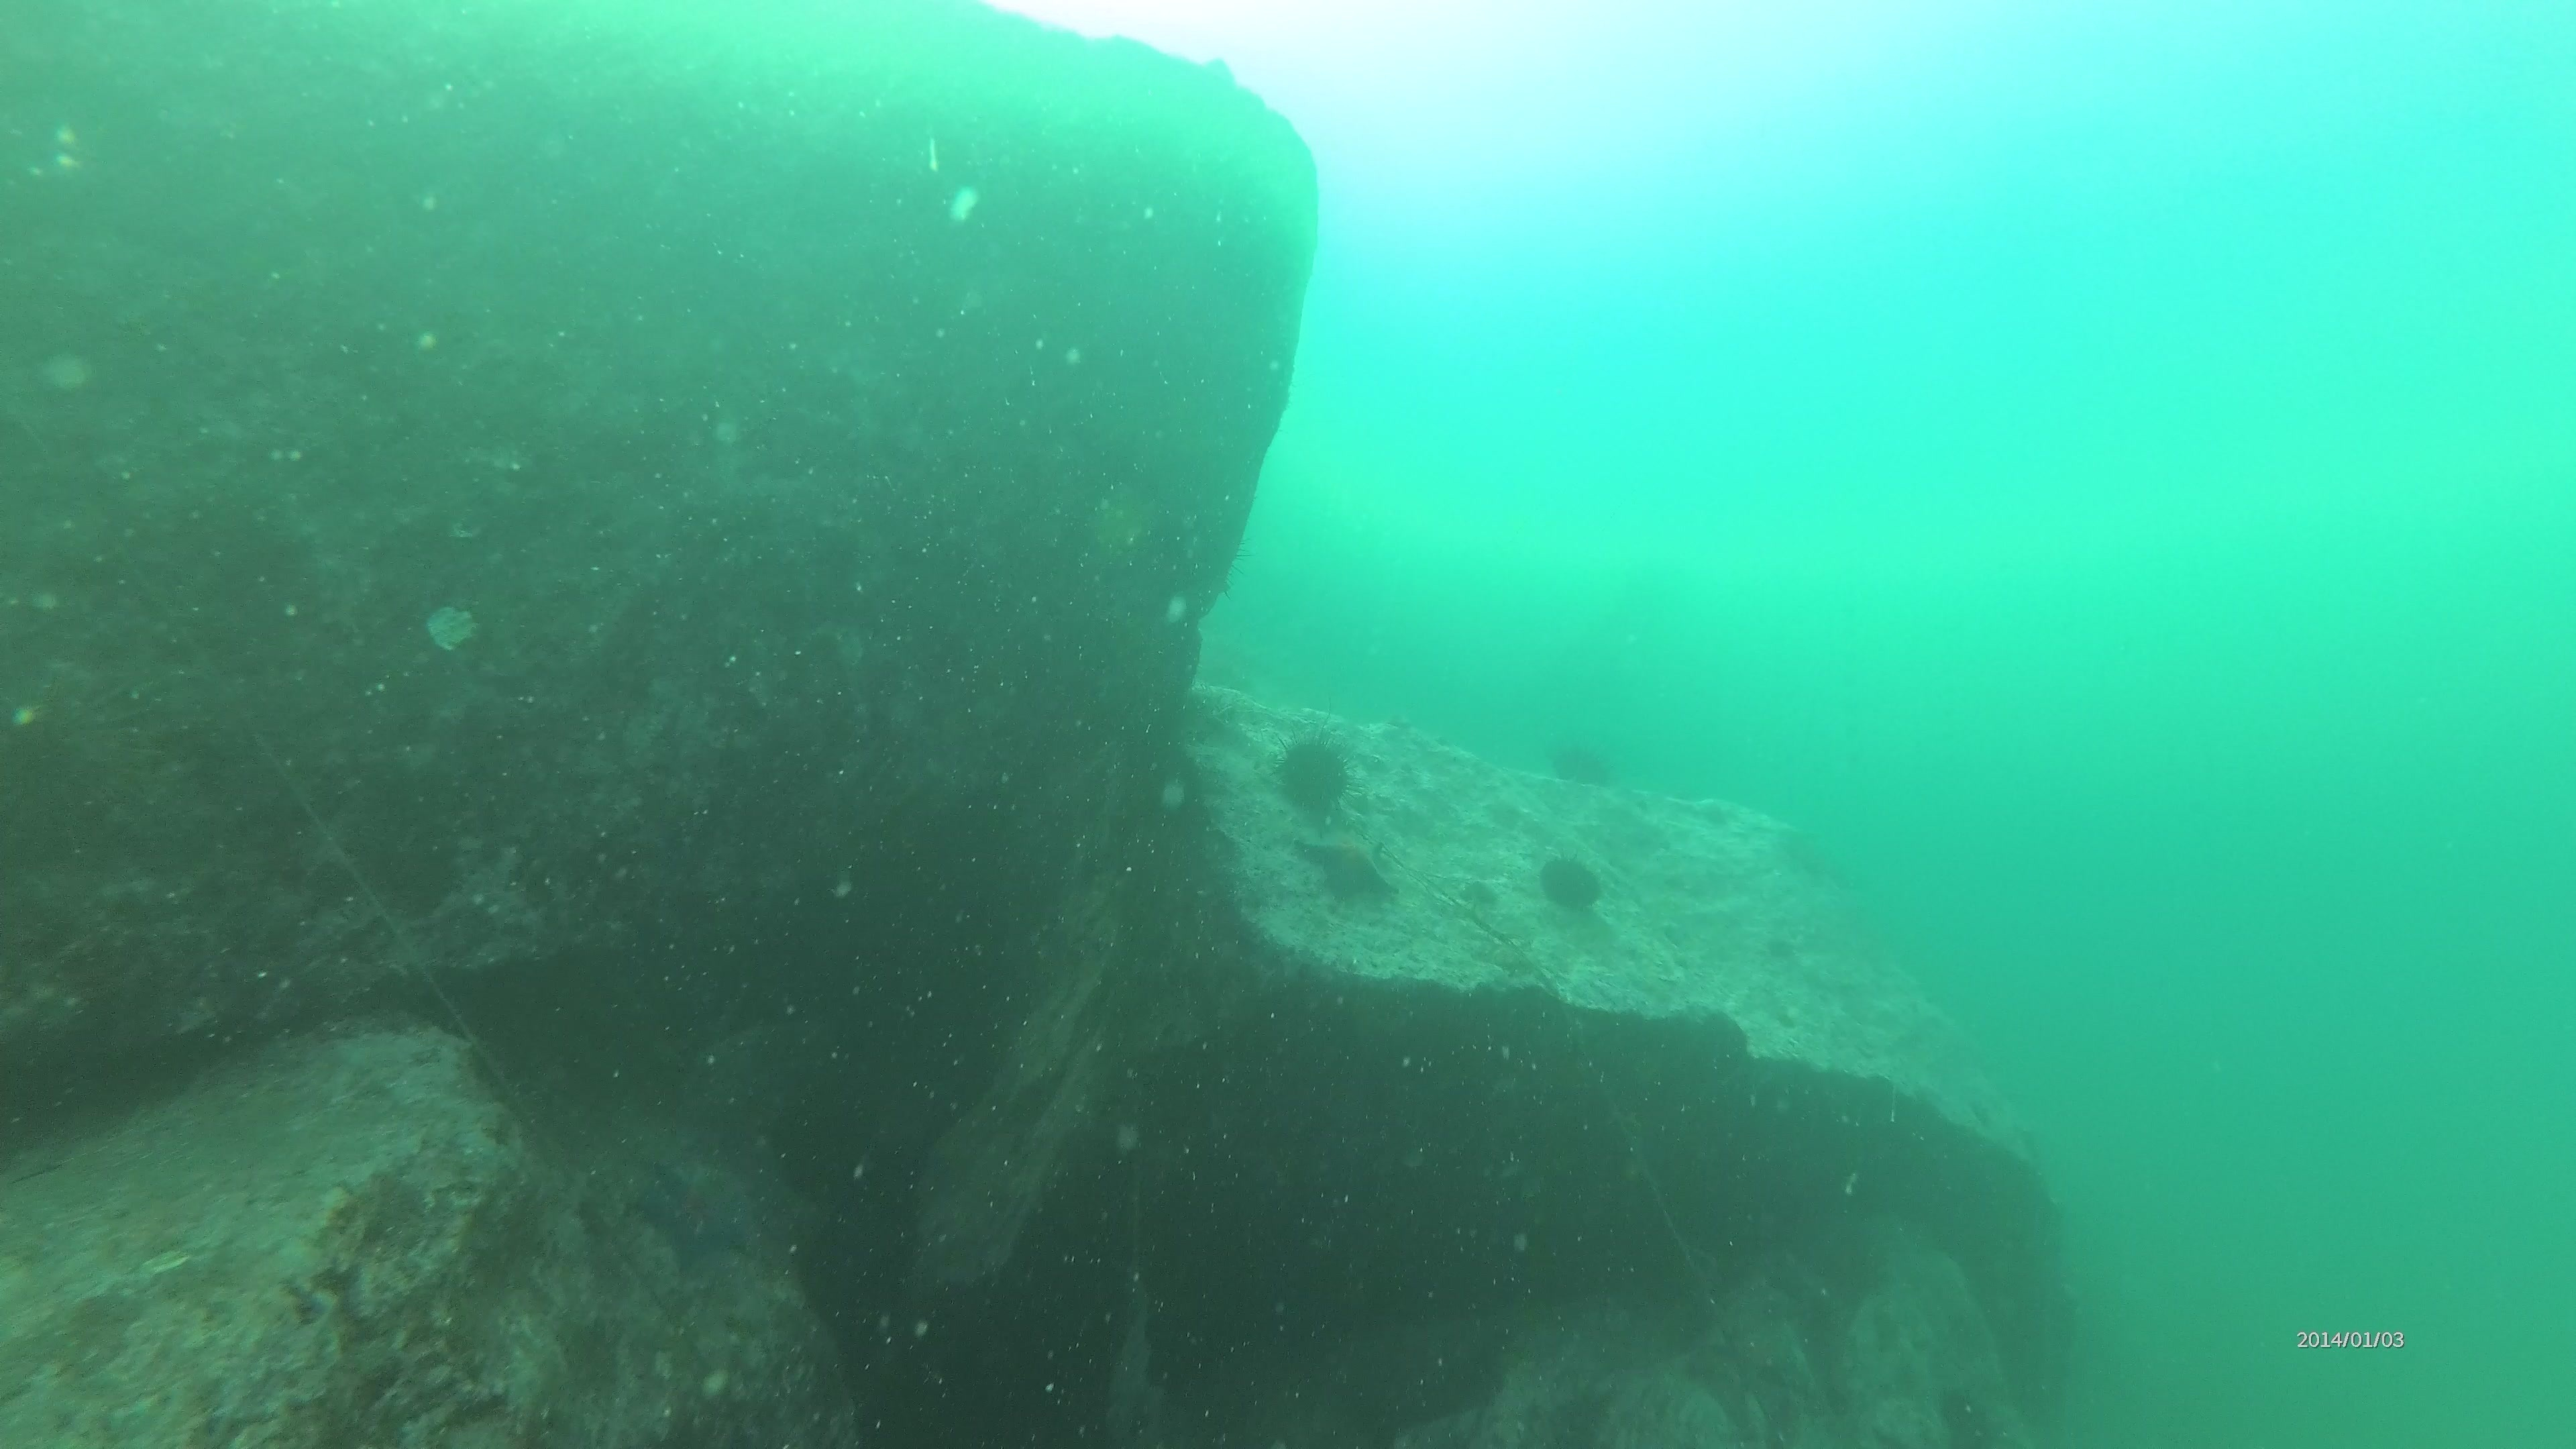echinus: (1263, 724, 1364, 828), (1527, 844, 1614, 924), (1541, 727, 1621, 794)
starfish: (628, 1148, 770, 1274), (1292, 824, 1405, 915)
